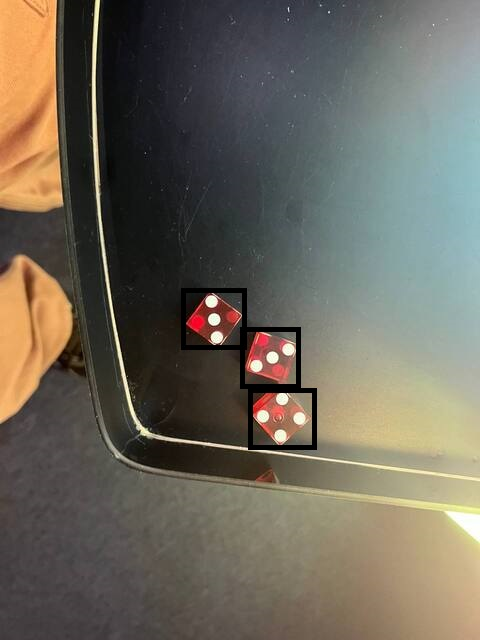four: (250, 390, 314, 447)
three: (183, 290, 244, 347), (242, 329, 298, 386)
